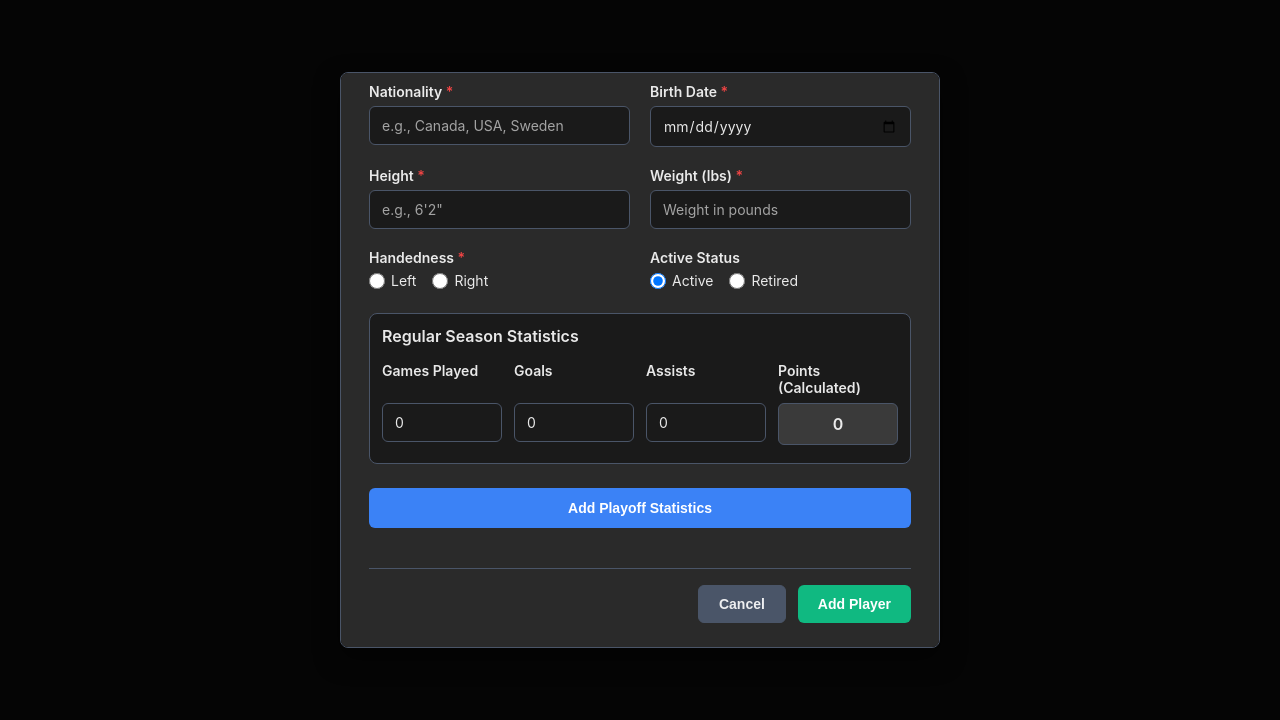
Test: PlayerFormModal › Playoff Fields Toggle › should hide playoff fields when toggle is clicked twice
(page scrolled)
Click the button "Add Playoff Statistics" at (640, 508), box [369,488,911,528]
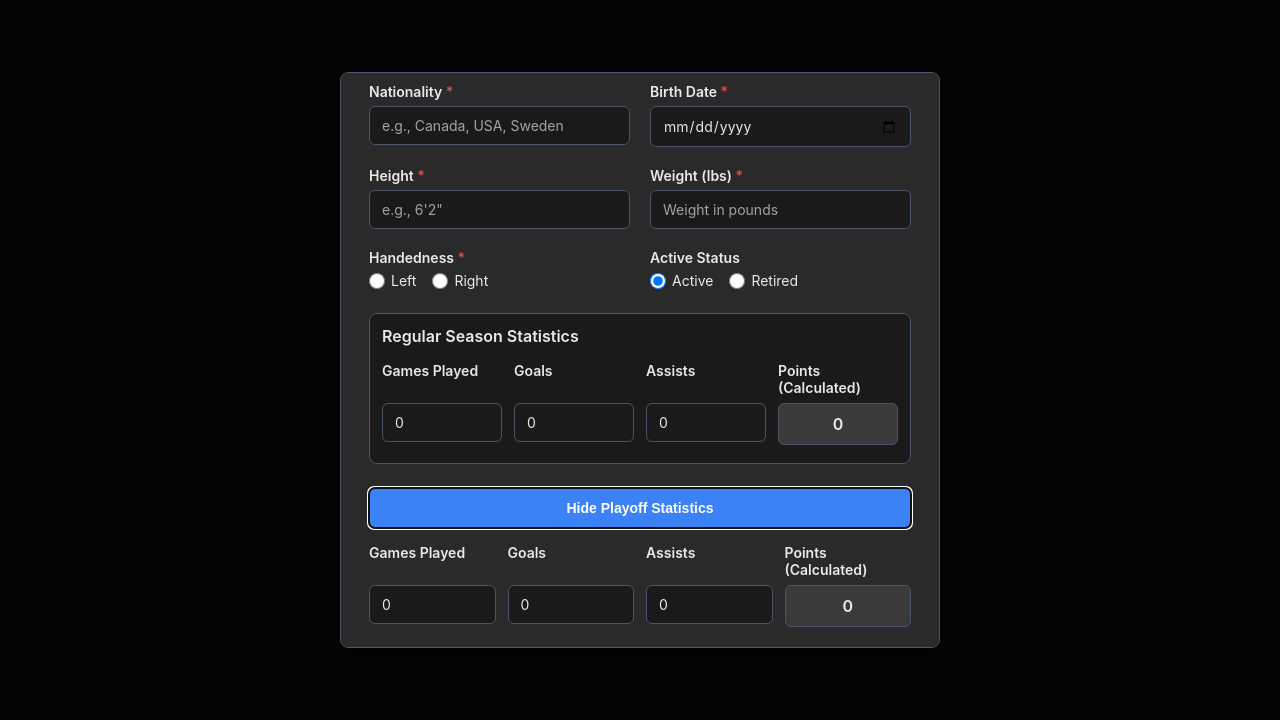
Expected: the button "Hide Playoff Statistics" is shown
Click the button "Hide Playoff Statistics" at (640, 508), box [369,488,911,528]
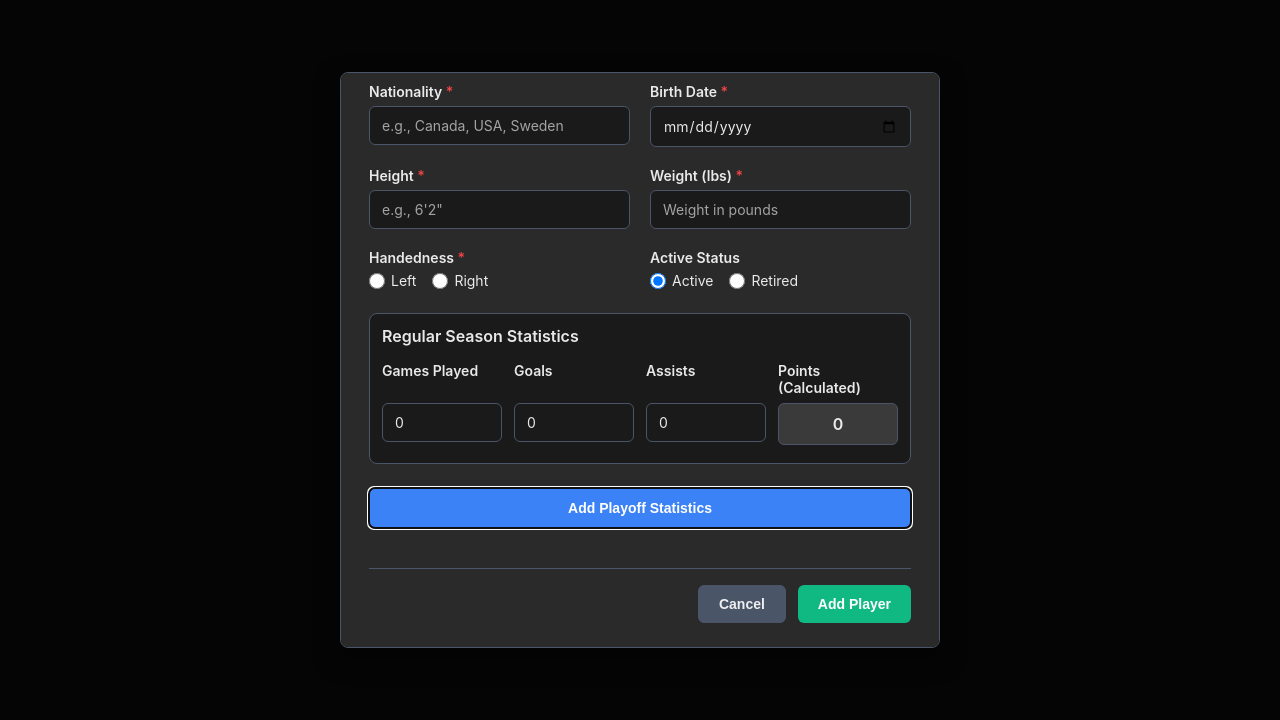
Expected: the button "Add Playoff Statistics" is shown, [369,488,911,528]
